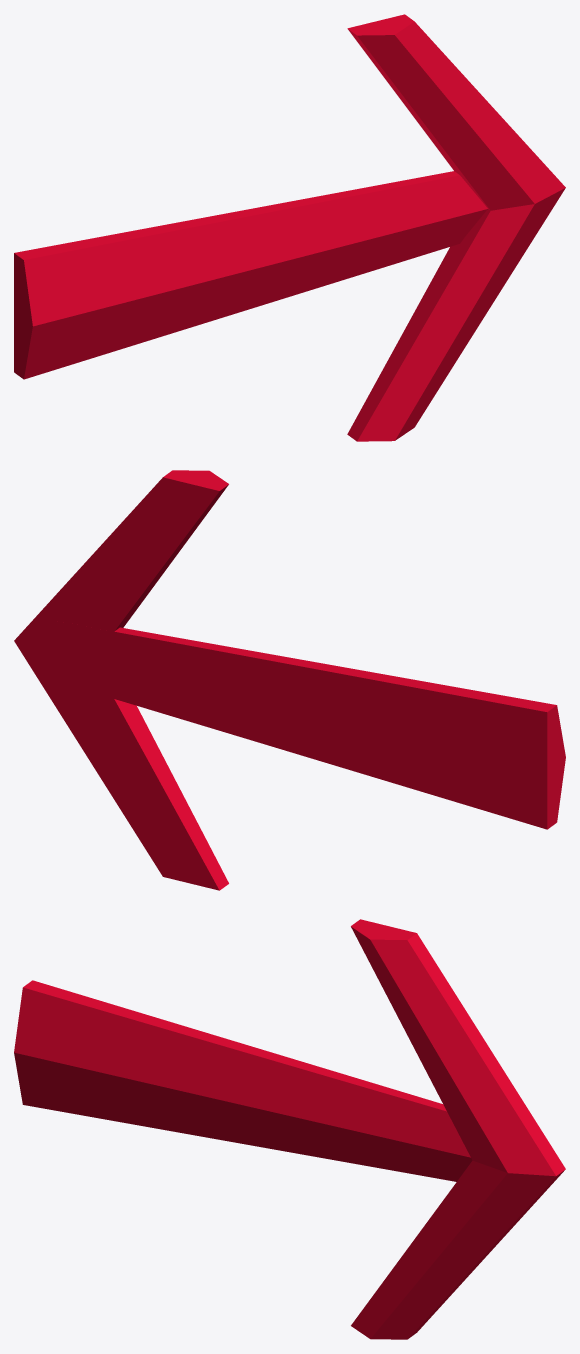
Rendered from fletxa.glb.
3 renders of one model, top to bottom at view 1: azimuth 30°, elevation 25°; view 2: azimuth 150°, elevation 25°; view 3: azimuth 330°, elevation 25°, orthographic.
Parts seen in each view (by area): view 1: Fletxa; view 2: Fletxa; view 3: Fletxa.
Part boxes in pixels (x1,y1,x2,y2): Fletxa: (14,14,565,441); Fletxa: (14,470,565,890); Fletxa: (14,919,565,1339).
Bounding box in the file's own units: 1.73 × 1.24 × 0.1047.
